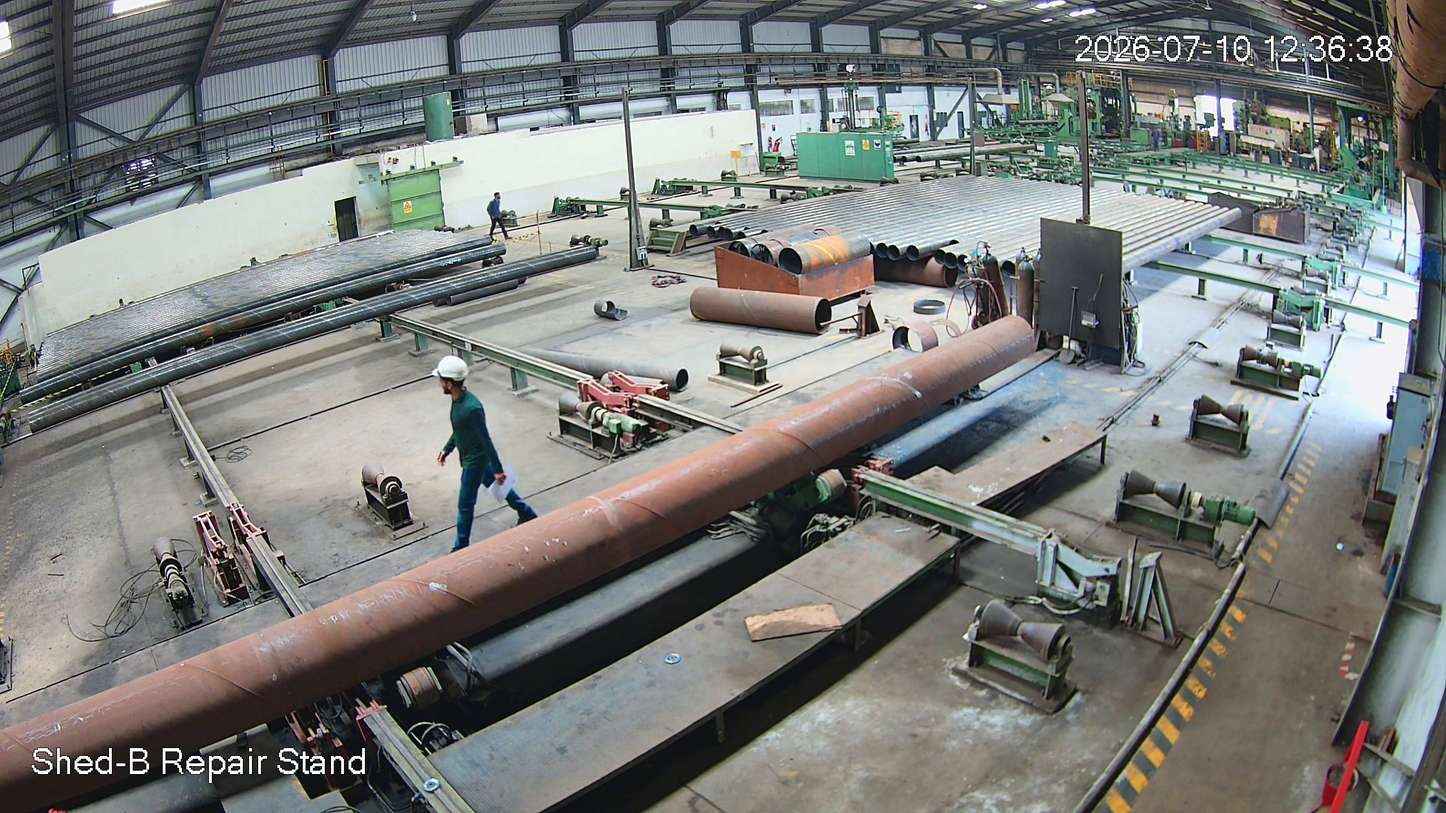Helmet: (423, 350, 470, 407)
Person: (420, 357, 535, 569)
